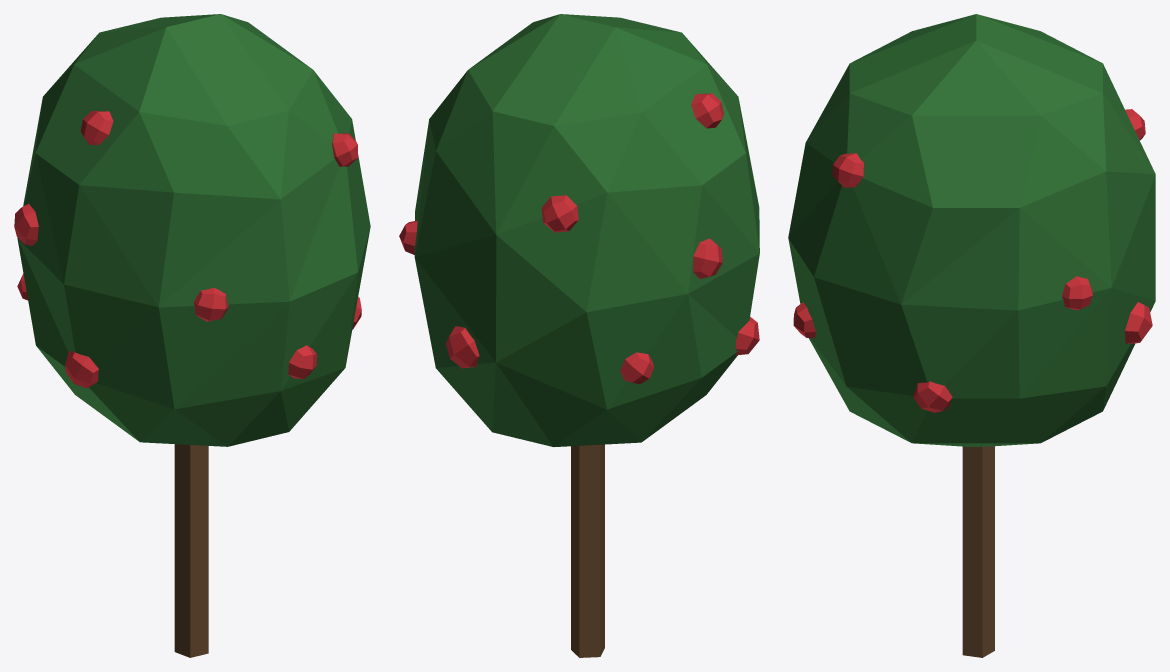
File: sm_apple_tree.gltf
3 views of the same model, side by side, from view 1: azimuth 30°, elevation 25°; view 2: azimuth 150°, elevation 25°; view 3: azimuth 270°, elevation 25° (orthographic).
Visible parts, largest first — view 1: tree-round-apple; view 2: tree-round-apple; view 3: tree-round-apple.
Boxes of the visible parts, bbox=[...] form: tree-round-apple: bbox=[14, 14, 370, 657]; tree-round-apple: bbox=[399, 14, 759, 657]; tree-round-apple: bbox=[788, 14, 1155, 657].
Size of the model in its own units: 2.58 by 5.06 by 2.7.
